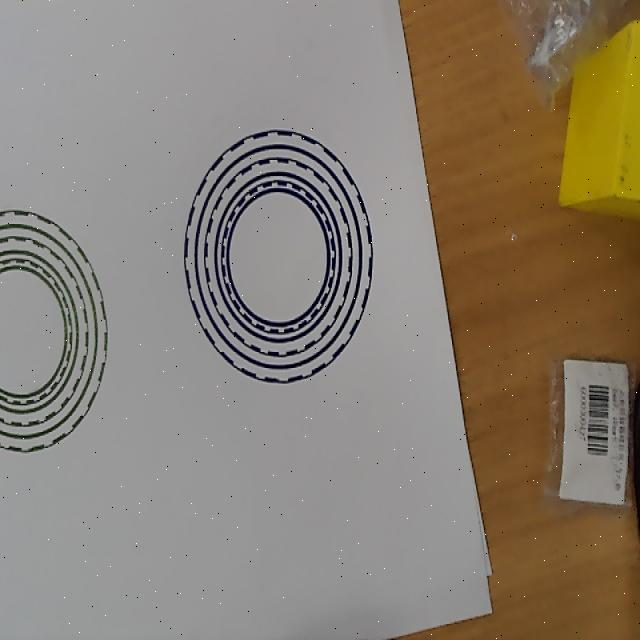b: (183, 128, 374, 385)
